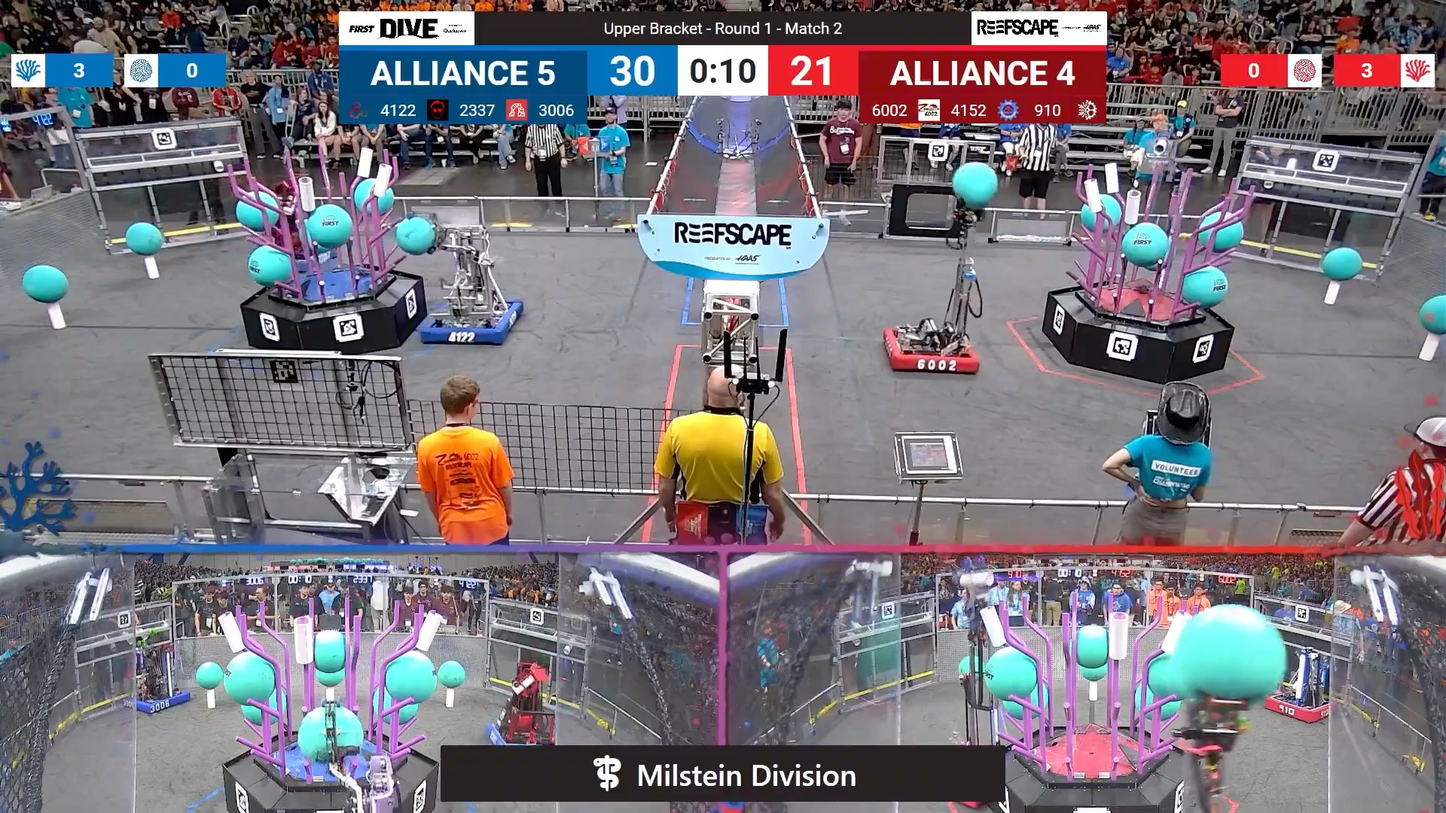bumpers: (414, 292, 529, 349), (877, 325, 990, 383), (1260, 691, 1344, 726), (482, 716, 565, 747), (120, 685, 197, 717)
